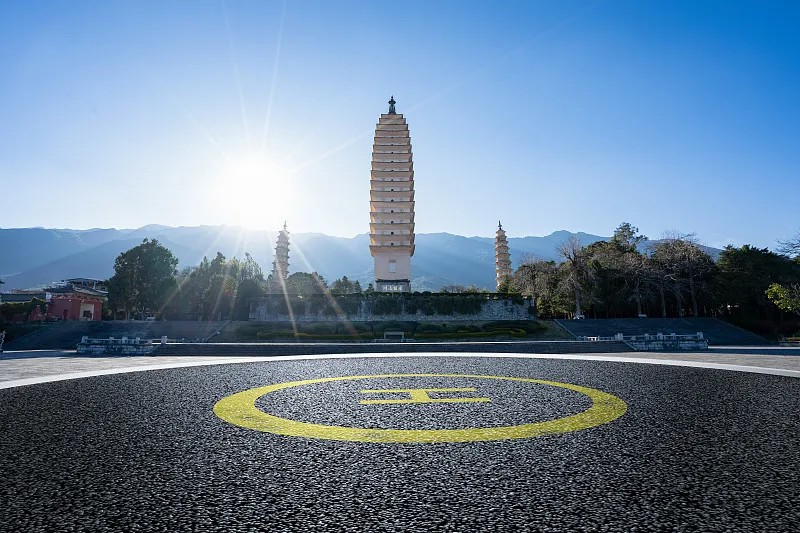ThreePagoda: (369, 95, 415, 292)
